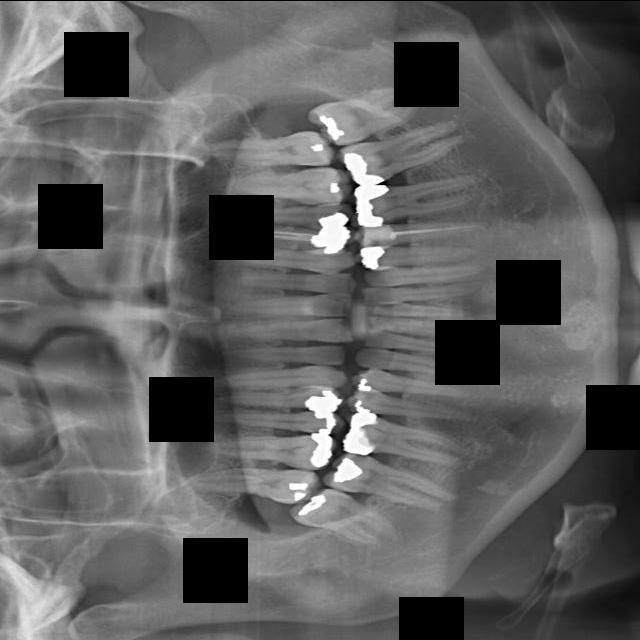AGS Medikal Implant: (333, 113, 475, 192)
AMerOss Implant: (345, 167, 487, 228)
Amalgam filling: (171, 458, 323, 509)
Anthogyr Implant: (354, 216, 494, 247)
Bicon Implant: (355, 239, 488, 269)
BioHorizons Implant: (361, 260, 495, 288)
BioLife Implant: (360, 281, 484, 303)
Biomet 3i Implant: (364, 301, 481, 318)
Blue Sky Bio Implant: (365, 312, 482, 343)
Camlog Implant: (362, 326, 484, 369)
Caries: (213, 268, 358, 293)
Composite filling: (351, 344, 487, 384)
Cowellmedi Implant: (349, 366, 474, 403)
Crown: (346, 388, 483, 428)
DENTSPLY Implant: (192, 432, 338, 470)
Dentatus Implant: (338, 410, 471, 468)
Dentis Implant: (320, 445, 467, 517)
Dentium Implant: (284, 476, 406, 556)
Euroteknika Implant: (194, 406, 345, 434)
Filling: (187, 381, 346, 412)
Frontier Implant: (199, 364, 349, 390)
Hiossen Implant: (214, 244, 356, 273)
Implant: (215, 317, 356, 342)
Implant Direct: (211, 344, 347, 365)
Keystone Dental Implant: (224, 293, 353, 316)
MIS Implant: (217, 224, 355, 249)
Mandible: (213, 203, 353, 226)
Maxilla: (204, 165, 353, 209)
Megagen Implant: (192, 128, 336, 169)
Neoss Implant: (302, 74, 434, 153)
